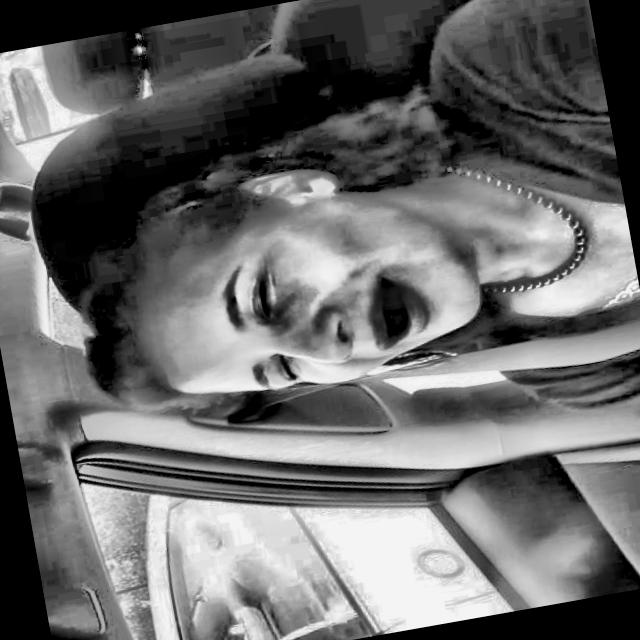closed_eyes: (234, 252, 302, 330), (258, 347, 320, 398)
open_mouth: (354, 262, 456, 365)
